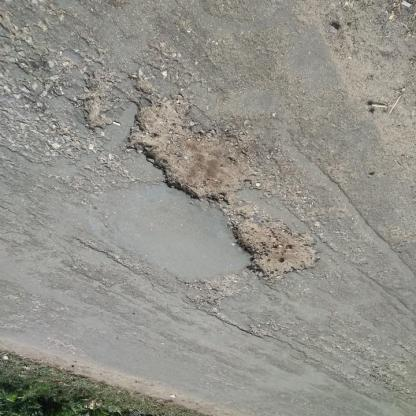pothole: (130, 101, 261, 205), (226, 214, 326, 285), (83, 95, 116, 130)
